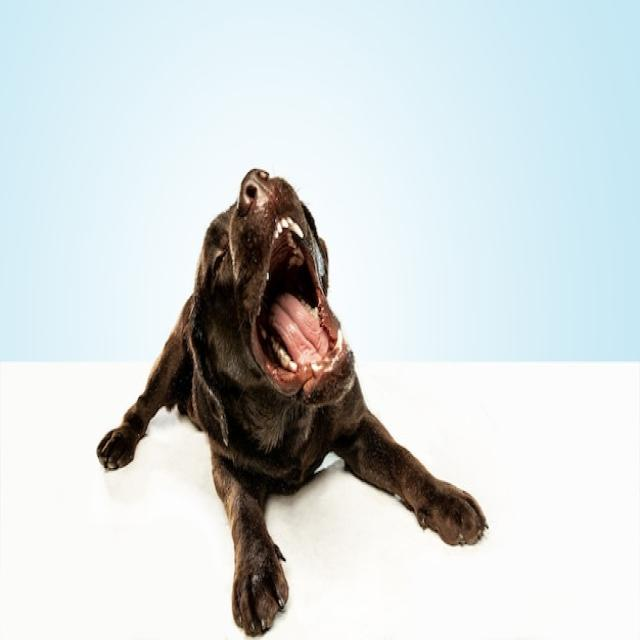Dog: (98, 164, 487, 639)
